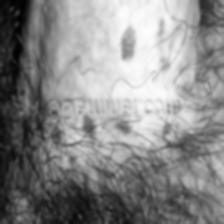Toxin: (156, 18, 174, 82), (119, 24, 139, 64), (80, 118, 100, 136), (118, 119, 134, 137), (50, 125, 64, 144), (163, 120, 175, 140)
